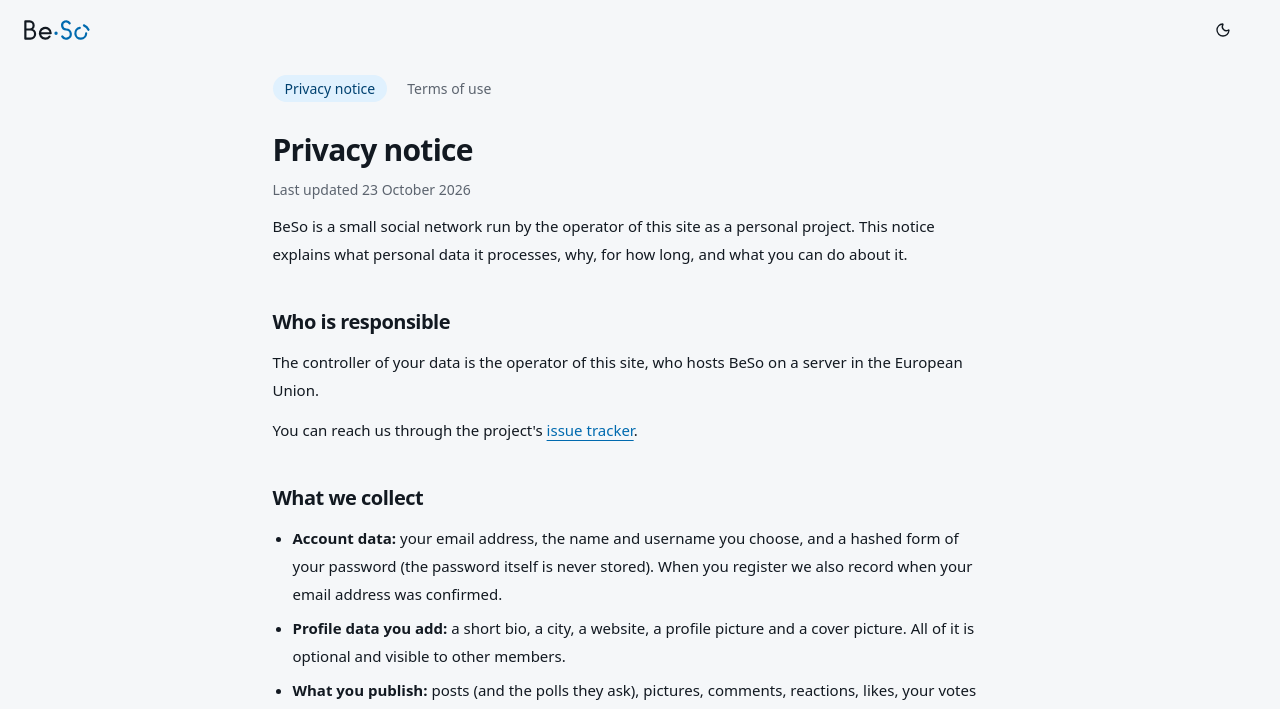
Scenario: legal pages › shows the privacy notice to anyone, dated, with a way to the terms
Expected: the heading "Privacy notice" is shown, [272,129,473,170]
What coordinates should you click on to do the following:
click the link "Terms of use"
I would click on:
 (449, 88)
Its box is [407,79,491,98].
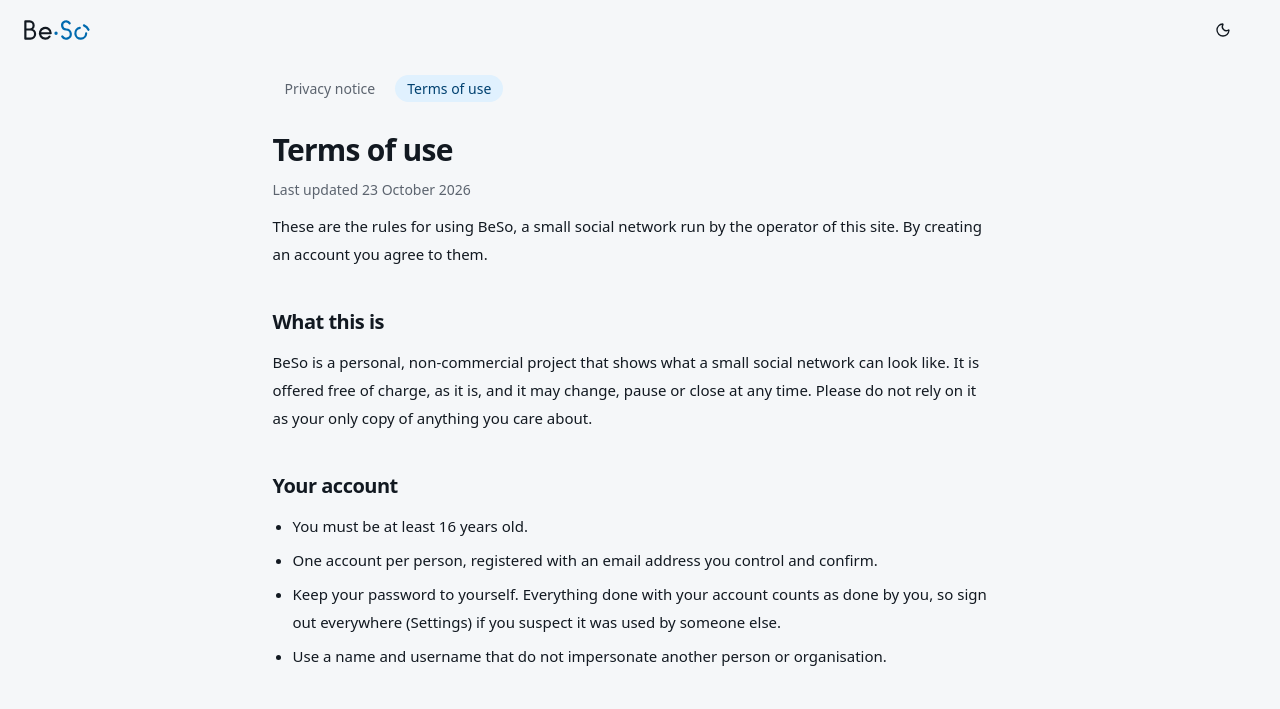
Result: the heading "Terms of use" is shown at [272,129,453,170]
